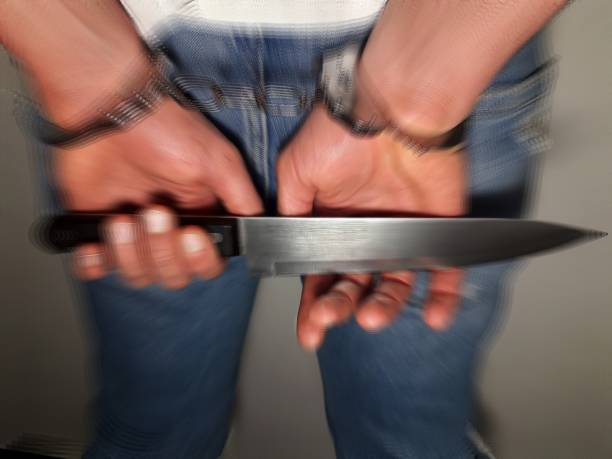knife: (39, 211, 610, 278)
